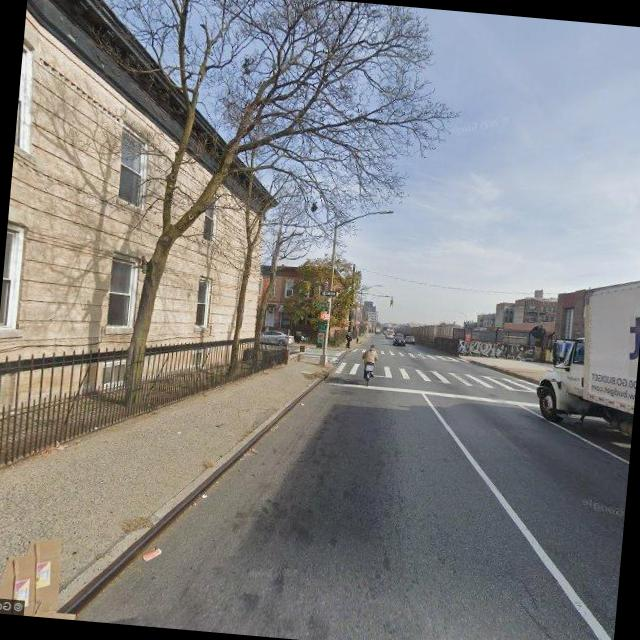pothole: (515, 582, 566, 640)
